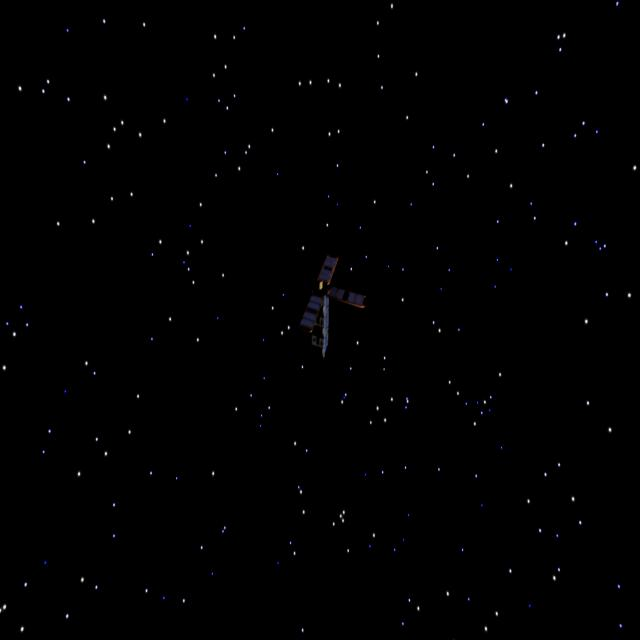satellite: (288, 255, 368, 361)
